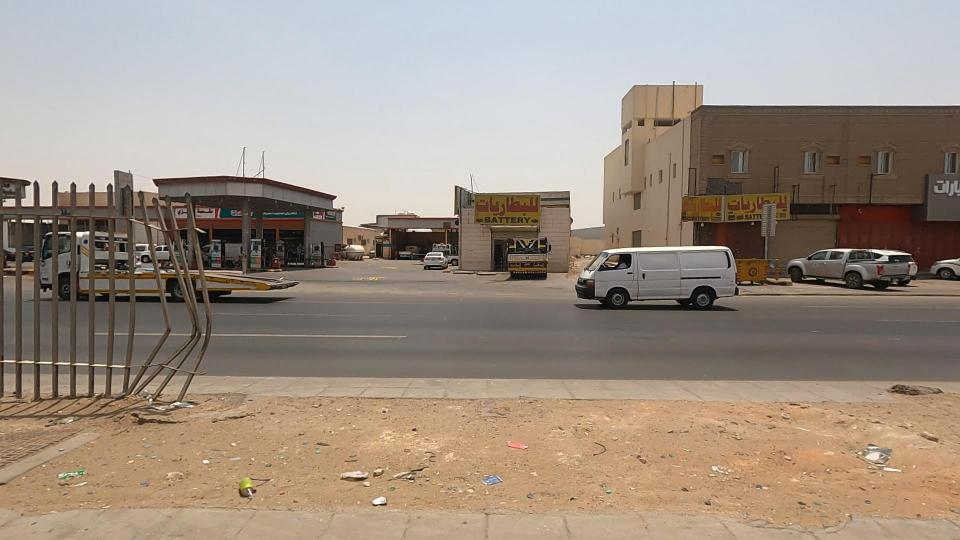CLUTTER_SIDEWALK: (74, 326, 679, 540), (413, 335, 960, 540)
GARBAGE: (274, 427, 481, 540), (108, 348, 222, 456), (822, 414, 936, 504), (0, 444, 146, 508), (196, 440, 308, 523), (449, 445, 519, 517), (486, 420, 553, 474)
